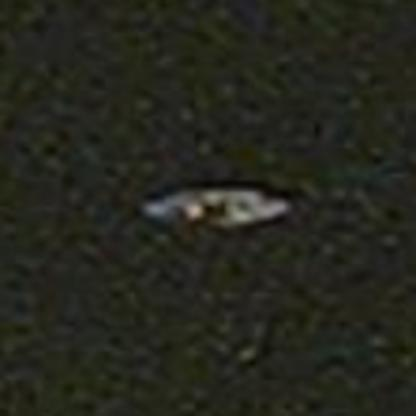ship: (126, 170, 302, 238)
